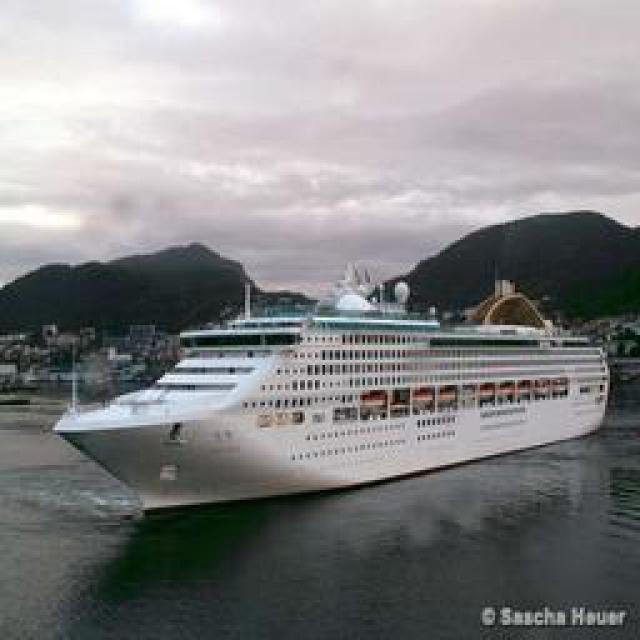Ship: (41, 291, 606, 521)
